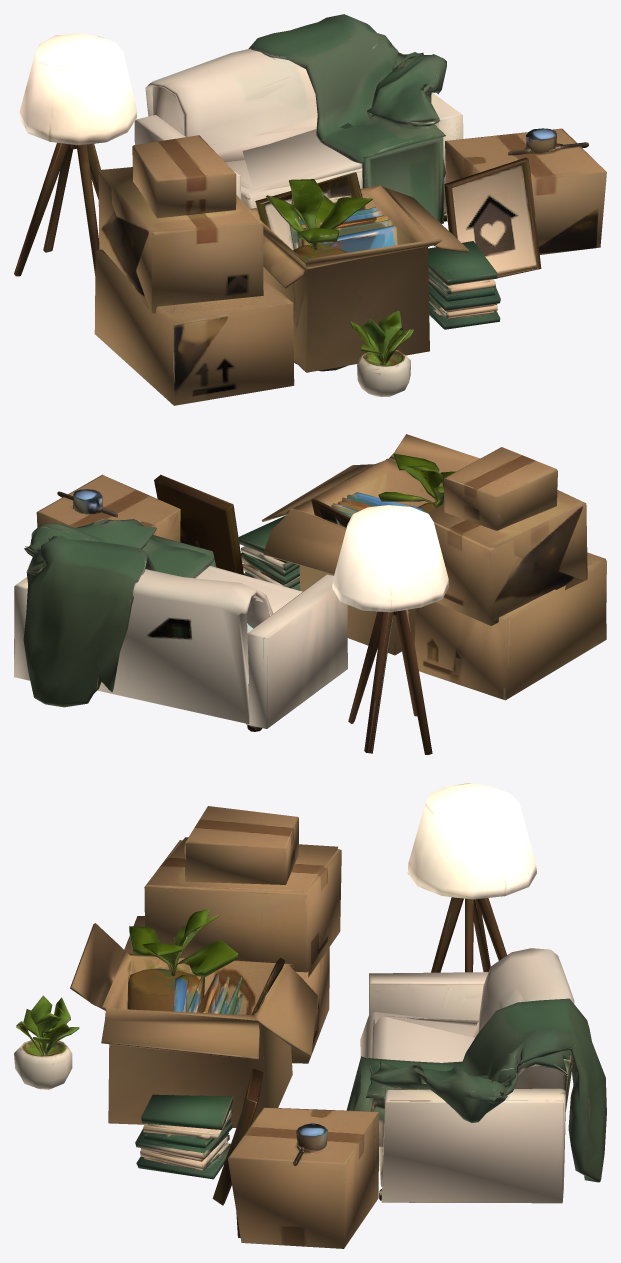
Rendered from house.glb.
3 renders of one model, top to bottom at view 1: azimuth 30°, elevation 25°; view 2: azimuth 150°, elevation 25°; view 3: azimuth 270°, elevation 25°, orthographic. The views are drawn at different scales.
Parts seen in each view (by area): view 1: mesh_node; view 2: mesh_node; view 3: mesh_node.
Boxes of the visible parts, <box> form: mesh_node: <box>14,14,606,405</box>; mesh_node: <box>14,434,606,754</box>; mesh_node: <box>14,783,606,1248</box>.
Size of the model in its own units: 1 by 0.4316 by 0.9941.
Materials: 1 (1 with a texture image).
